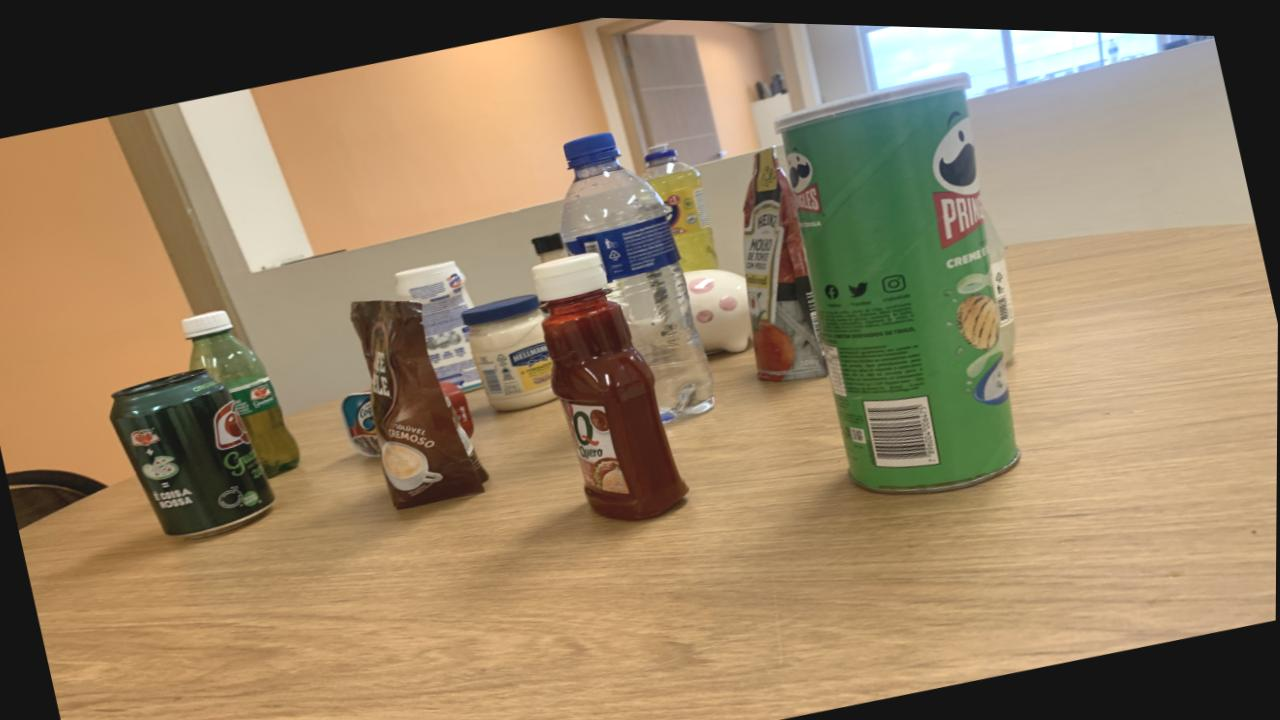Cleaner-Cleanup_Items: (395, 258, 483, 387)
Coffee-Pantry_Items: (350, 297, 489, 507)
Detergent-Cleanup_Items: (641, 140, 718, 267)
Guarana-Drinks: (182, 309, 300, 476)
Guarana_Can-Drinks: (110, 367, 275, 535)
Ketchup-Pantry_Items: (535, 248, 688, 516)
Mayonnaise-Pantry_Items: (463, 290, 556, 408)
Pig_Safe-Miscellaneous: (683, 264, 752, 348)
Pringles-Snacks: (775, 66, 1020, 487)
Tomato_Sauce-Pantry_Items: (742, 142, 828, 376), (340, 388, 382, 455)
Tuna_Can-Pantry_Items: (340, 388, 382, 454), (440, 378, 476, 433)
Water_Bottle-Drinks: (559, 129, 715, 415)
